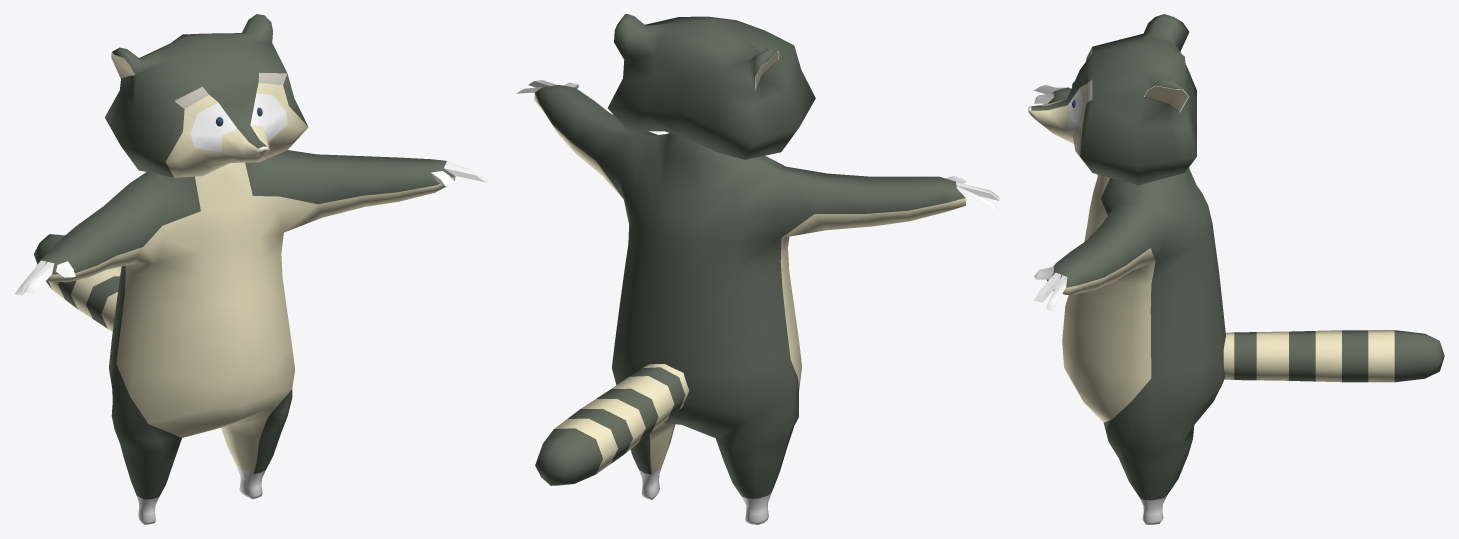
The model's file is SK_Raccoon.FBX.
3 views of the same model, side by side, from view 1: azimuth 30°, elevation 25°; view 2: azimuth 150°, elevation 25°; view 3: azimuth 270°, elevation 25° (orthographic). The views are drawn at different scales.
Parts seen in each view (by area): view 1: Raccoon_body, Raccoon_head, Raccoon_tail; view 2: Raccoon_body, Raccoon_head, Raccoon_tail; view 3: Raccoon_body, Raccoon_head, Raccoon_tail.
Part boxes in pixels (left/top/right/bottom): Raccoon_body: left=14, top=150, right=487, bottom=524; Raccoon_head: left=105, top=14, right=308, bottom=177; Raccoon_tail: left=34, top=234, right=121, bottom=331; Raccoon_body: left=516, top=80, right=999, bottom=524; Raccoon_head: left=608, top=14, right=815, bottom=159; Raccoon_tail: left=535, top=364, right=689, bottom=485; Raccoon_body: left=1034, top=85, right=1225, bottom=524; Raccoon_head: left=1028, top=14, right=1196, bottom=185; Raccoon_tail: left=1223, top=330, right=1444, bottom=382.
Size of the model in its own units: 131 by 125 by 104.
Materials: 1 (1 with a texture image).
